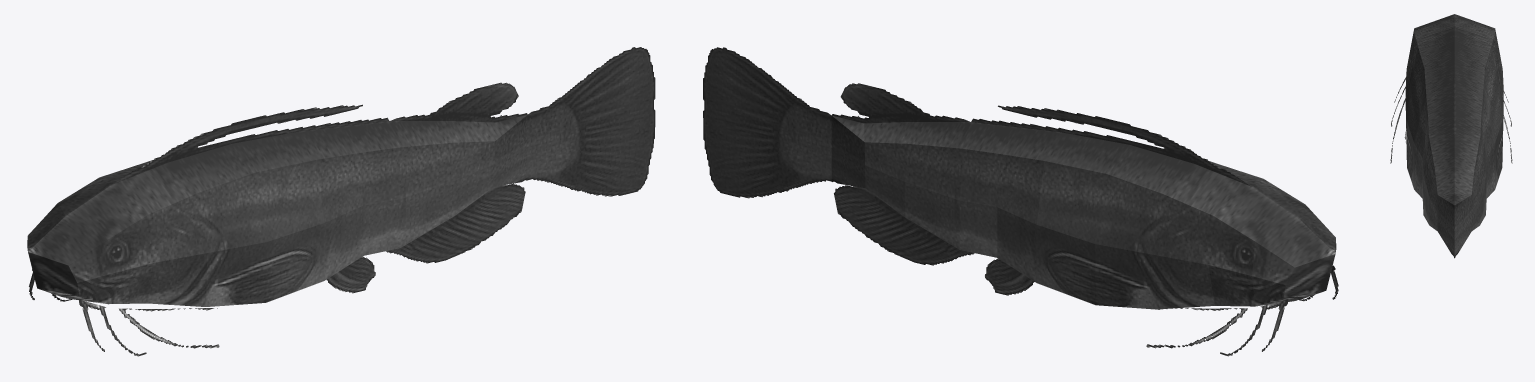
File: Veilcrest.fbx
3 views of the same model, side by side, from view 1: azimuth 30°, elevation 25°; view 2: azimuth 150°, elevation 25°; view 3: azimuth 270°, elevation 25° (orthographic). The views are drawn at different scales.
Parts seen in each view (by area): view 1: Catfish; view 2: Catfish; view 3: Catfish.
Part boxes in pixels (x1=…): Catfish: x1=27, y1=47, x2=655, y2=356; Catfish: x1=703, y1=47, x2=1338, y2=356; Catfish: x1=1390, y1=14, x2=1512, y2=258.
Size of the model in its own units: 183 by 57.61 by 42.41.
Materials: 1 (1 with a texture image).
